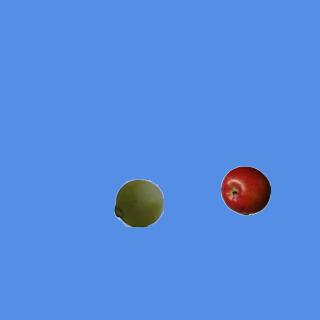Apple Braeburn: (220, 165, 270, 215)
Grape White 4: (113, 177, 163, 227)
